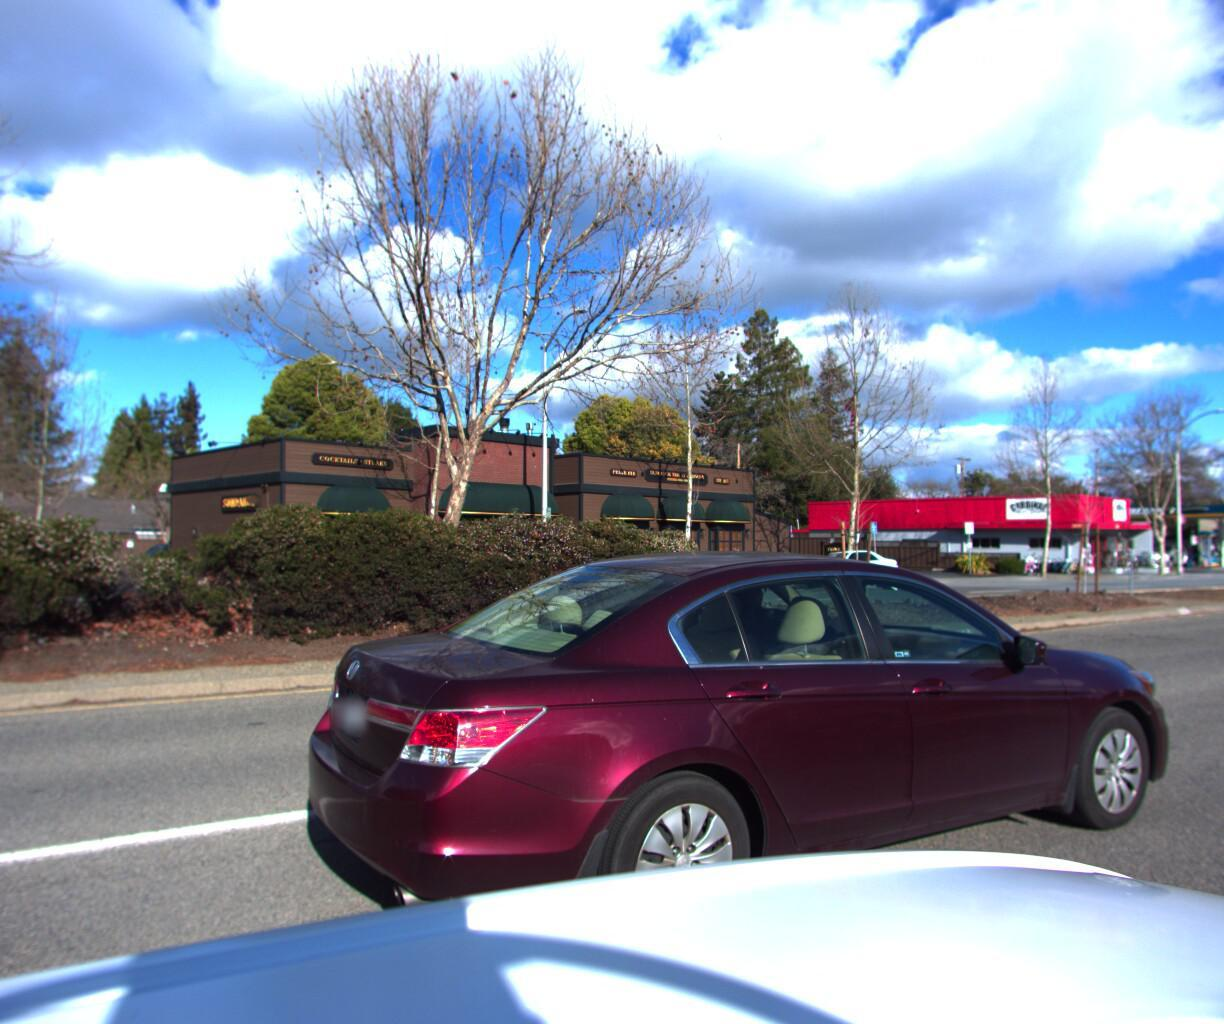bicycle: (1133, 548, 1164, 566)
car: (280, 520, 1209, 1024), (783, 547, 903, 594), (1131, 541, 1190, 567)
